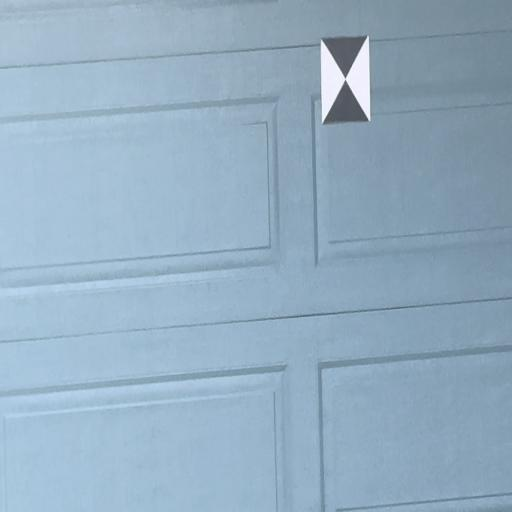target: (320, 37, 370, 121)
